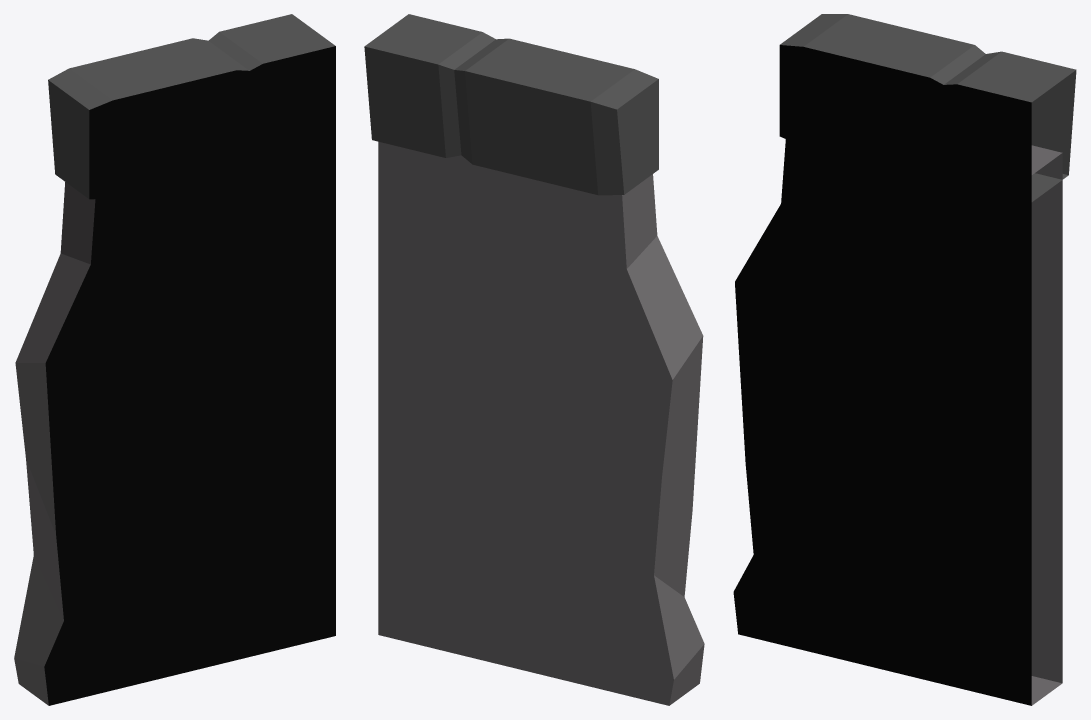
File: Wall_Broken.fbx
3 renders of one model, left to right at view 1: azimuth 30°, elevation 25°; view 2: azimuth 150°, elevation 25°; view 3: azimuth 330°, elevation 25°, orthographic. The views are drawn at different scales.
Parts seen in each view (by area): view 1: Wall_Broken; view 2: Wall_Broken; view 3: Wall_Broken.
Part boxes in pixels (<box>): Wall_Broken: <box>14,14,335,705</box>; Wall_Broken: <box>364,14,704,705</box>; Wall_Broken: <box>733,14,1076,705</box>.
Bounding box in the file's own units: 93.67 × 181 × 24.35.
